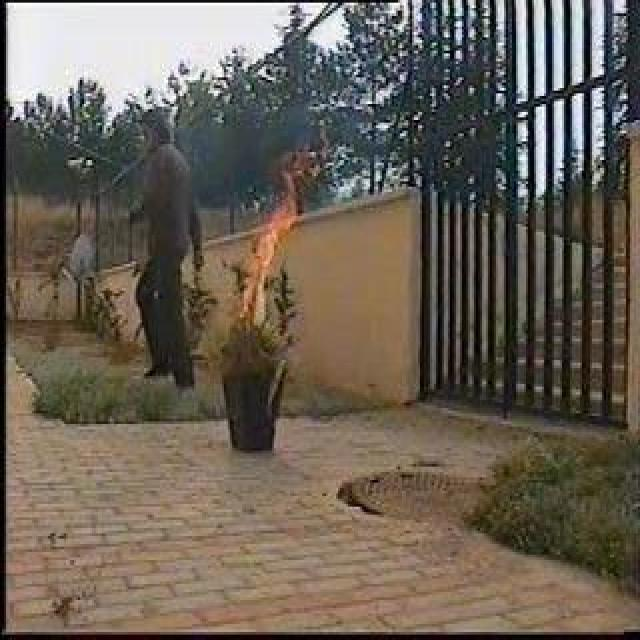fire: (239, 203, 300, 319)
